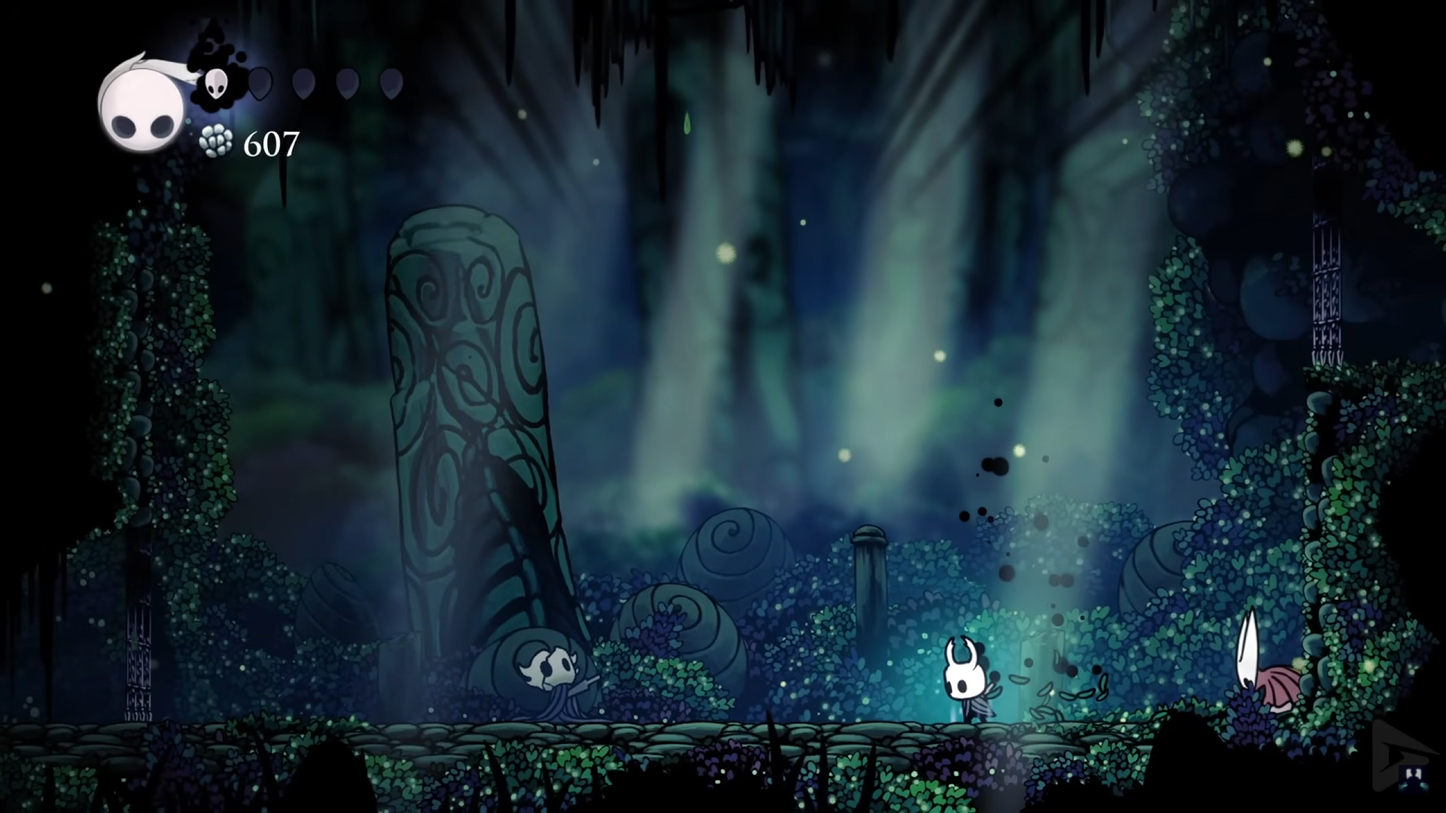HK: (935, 633, 999, 725)
